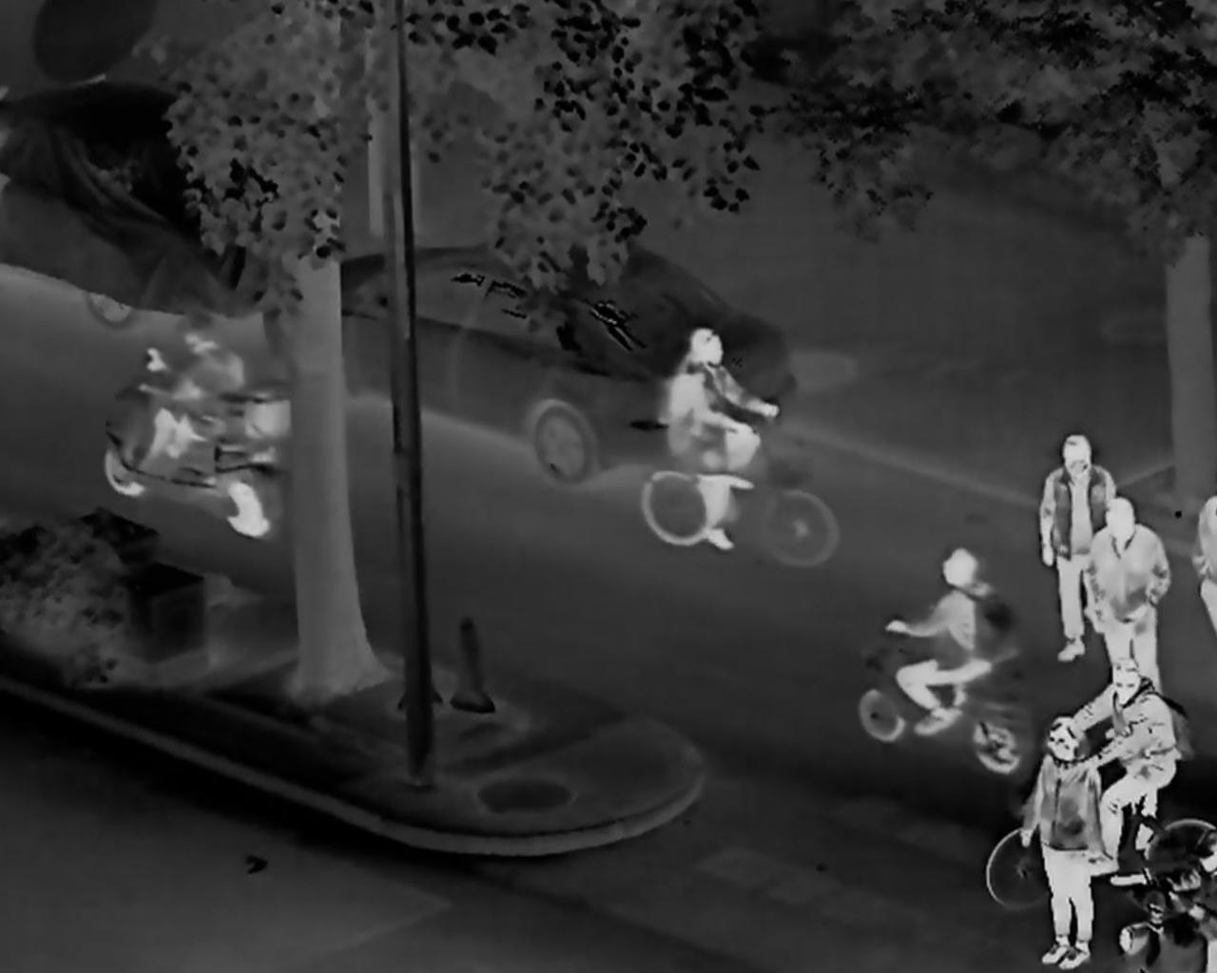person: (665, 329, 778, 555), (1060, 661, 1174, 872), (882, 546, 1000, 735), (1019, 718, 1103, 963), (1040, 433, 1115, 659), (142, 313, 242, 467), (1094, 500, 1161, 714), (1163, 829, 1217, 947)
